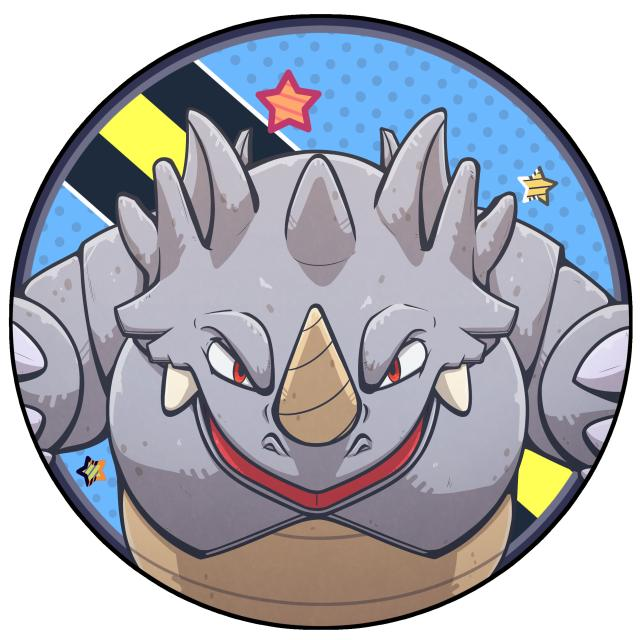Rhydon: (105, 110, 528, 617)
